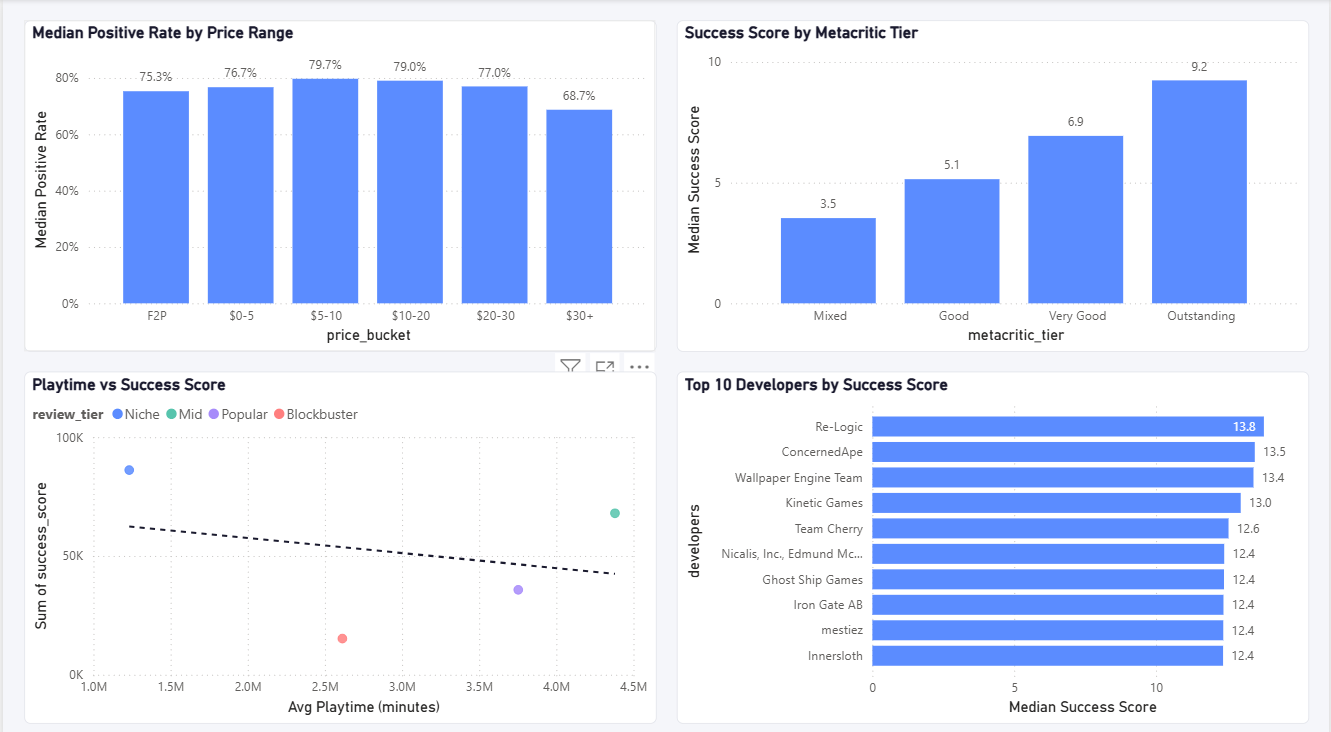

Layout of this report page (visuals, bound fields, positions):
{"tool":"powerbi","page":{"name":"Price & Playtime","canvas":[1280,720],"ordinal":3},"visuals":[{"type":"clusteredColumnChart","title":"Median Positive Rate by Price Range","fields":{"Category":["df.price_bucket"],"Y":["df.Median Positive Rate"]},"box":[20,20,610,320],"z":0},{"type":"scatterChart","title":"Playtime vs Success Score","fields":{"X":["Sum(df.playtime_capped)"],"Y":["Sum(df.success_score)"],"Series":["df.review_tier"]},"box":[20,360,610,340],"z":1000},{"type":"clusteredColumnChart","title":"Success Score by Metacritic Tier","fields":{"Y":["df.Median Success Score"],"Category":["df.metacritic_tier"]},"box":[650,20,610,320],"z":2000},{"type":"clusteredBarChart","title":"Top 10 Developers by Success Score","fields":{"Category":["df.developers"],"Y":["df.Median Success Score"]},"box":[650,360,610,340],"z":3000}]}

Visuals, with their boxes in screenshot pixels (x1, y1, x2, y2), scaled from the page's 1280x720 canvas onto the 1331x732 screenshot:
"Median Positive Rate by Price Range" clusteredColumnChart: [x1=21, y1=20, x2=655, y2=346]
"Playtime vs Success Score" scatterChart: [x1=21, y1=366, x2=655, y2=712]
"Success Score by Metacritic Tier" clusteredColumnChart: [x1=676, y1=20, x2=1310, y2=346]
"Top 10 Developers by Success Score" clusteredBarChart: [x1=676, y1=366, x2=1310, y2=712]
